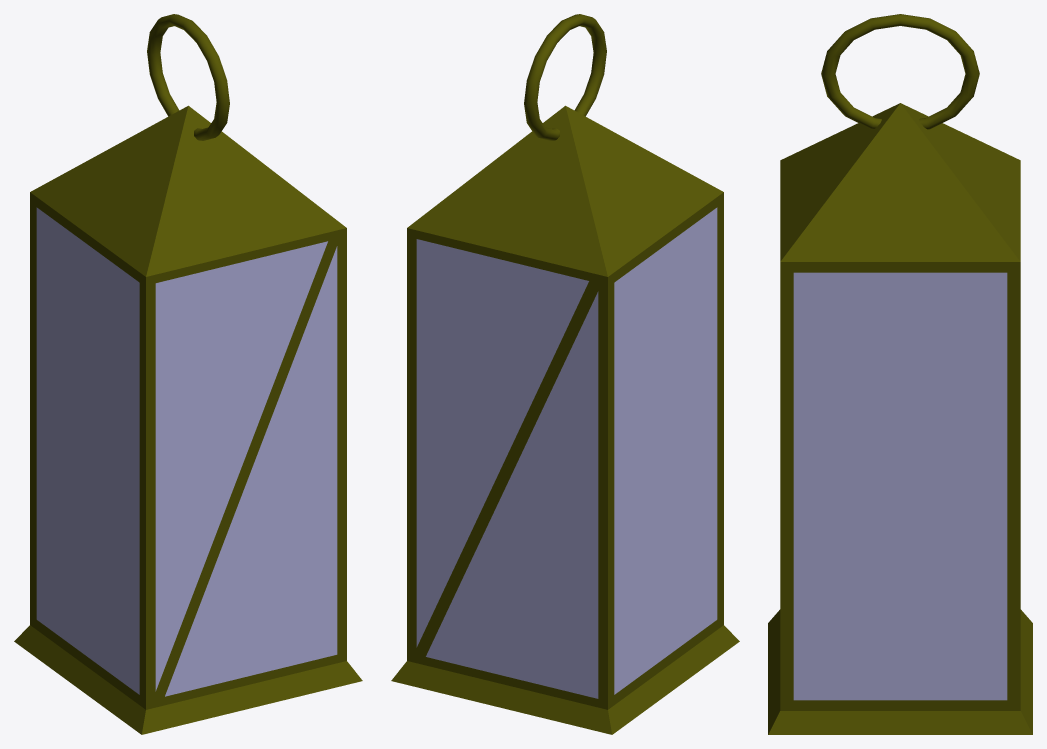
Rendered from Lantern2.fbx.
The picture shows the model from 3 angles, left to right: view 1: azimuth 30°, elevation 25°; view 2: azimuth 150°, elevation 25°; view 3: azimuth 270°, elevation 25°; orthographic projection. The views are drawn at different scales.
Visible parts, largest first — view 1: pCylinder53; view 2: pCylinder53; view 3: pCylinder53.
Part boxes in pixels (x1,y1,x2,y2): pCylinder53: (14,14,362,734); pCylinder53: (391,14,739,734); pCylinder53: (768,14,1032,734).
Bounding box in the file's own units: 1.1 × 3.05 × 1.1.
